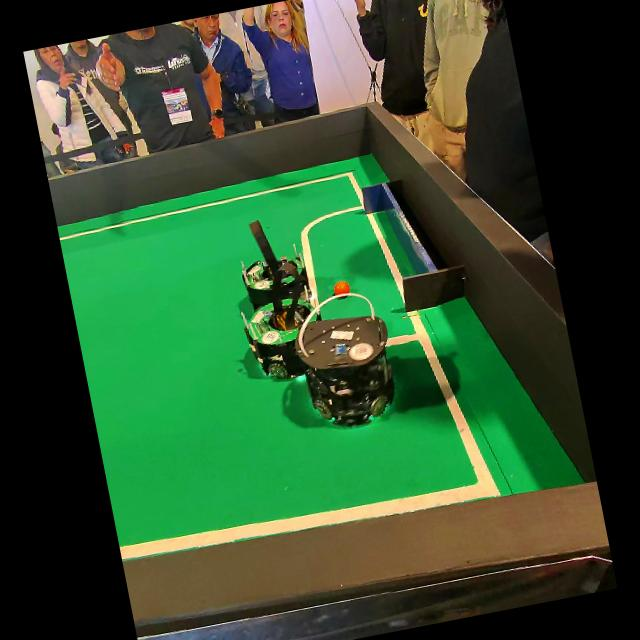ball: (333, 281, 349, 295)
goal: (361, 182, 464, 312)
robot: (294, 294, 394, 427), (241, 221, 311, 311), (244, 299, 311, 379)
